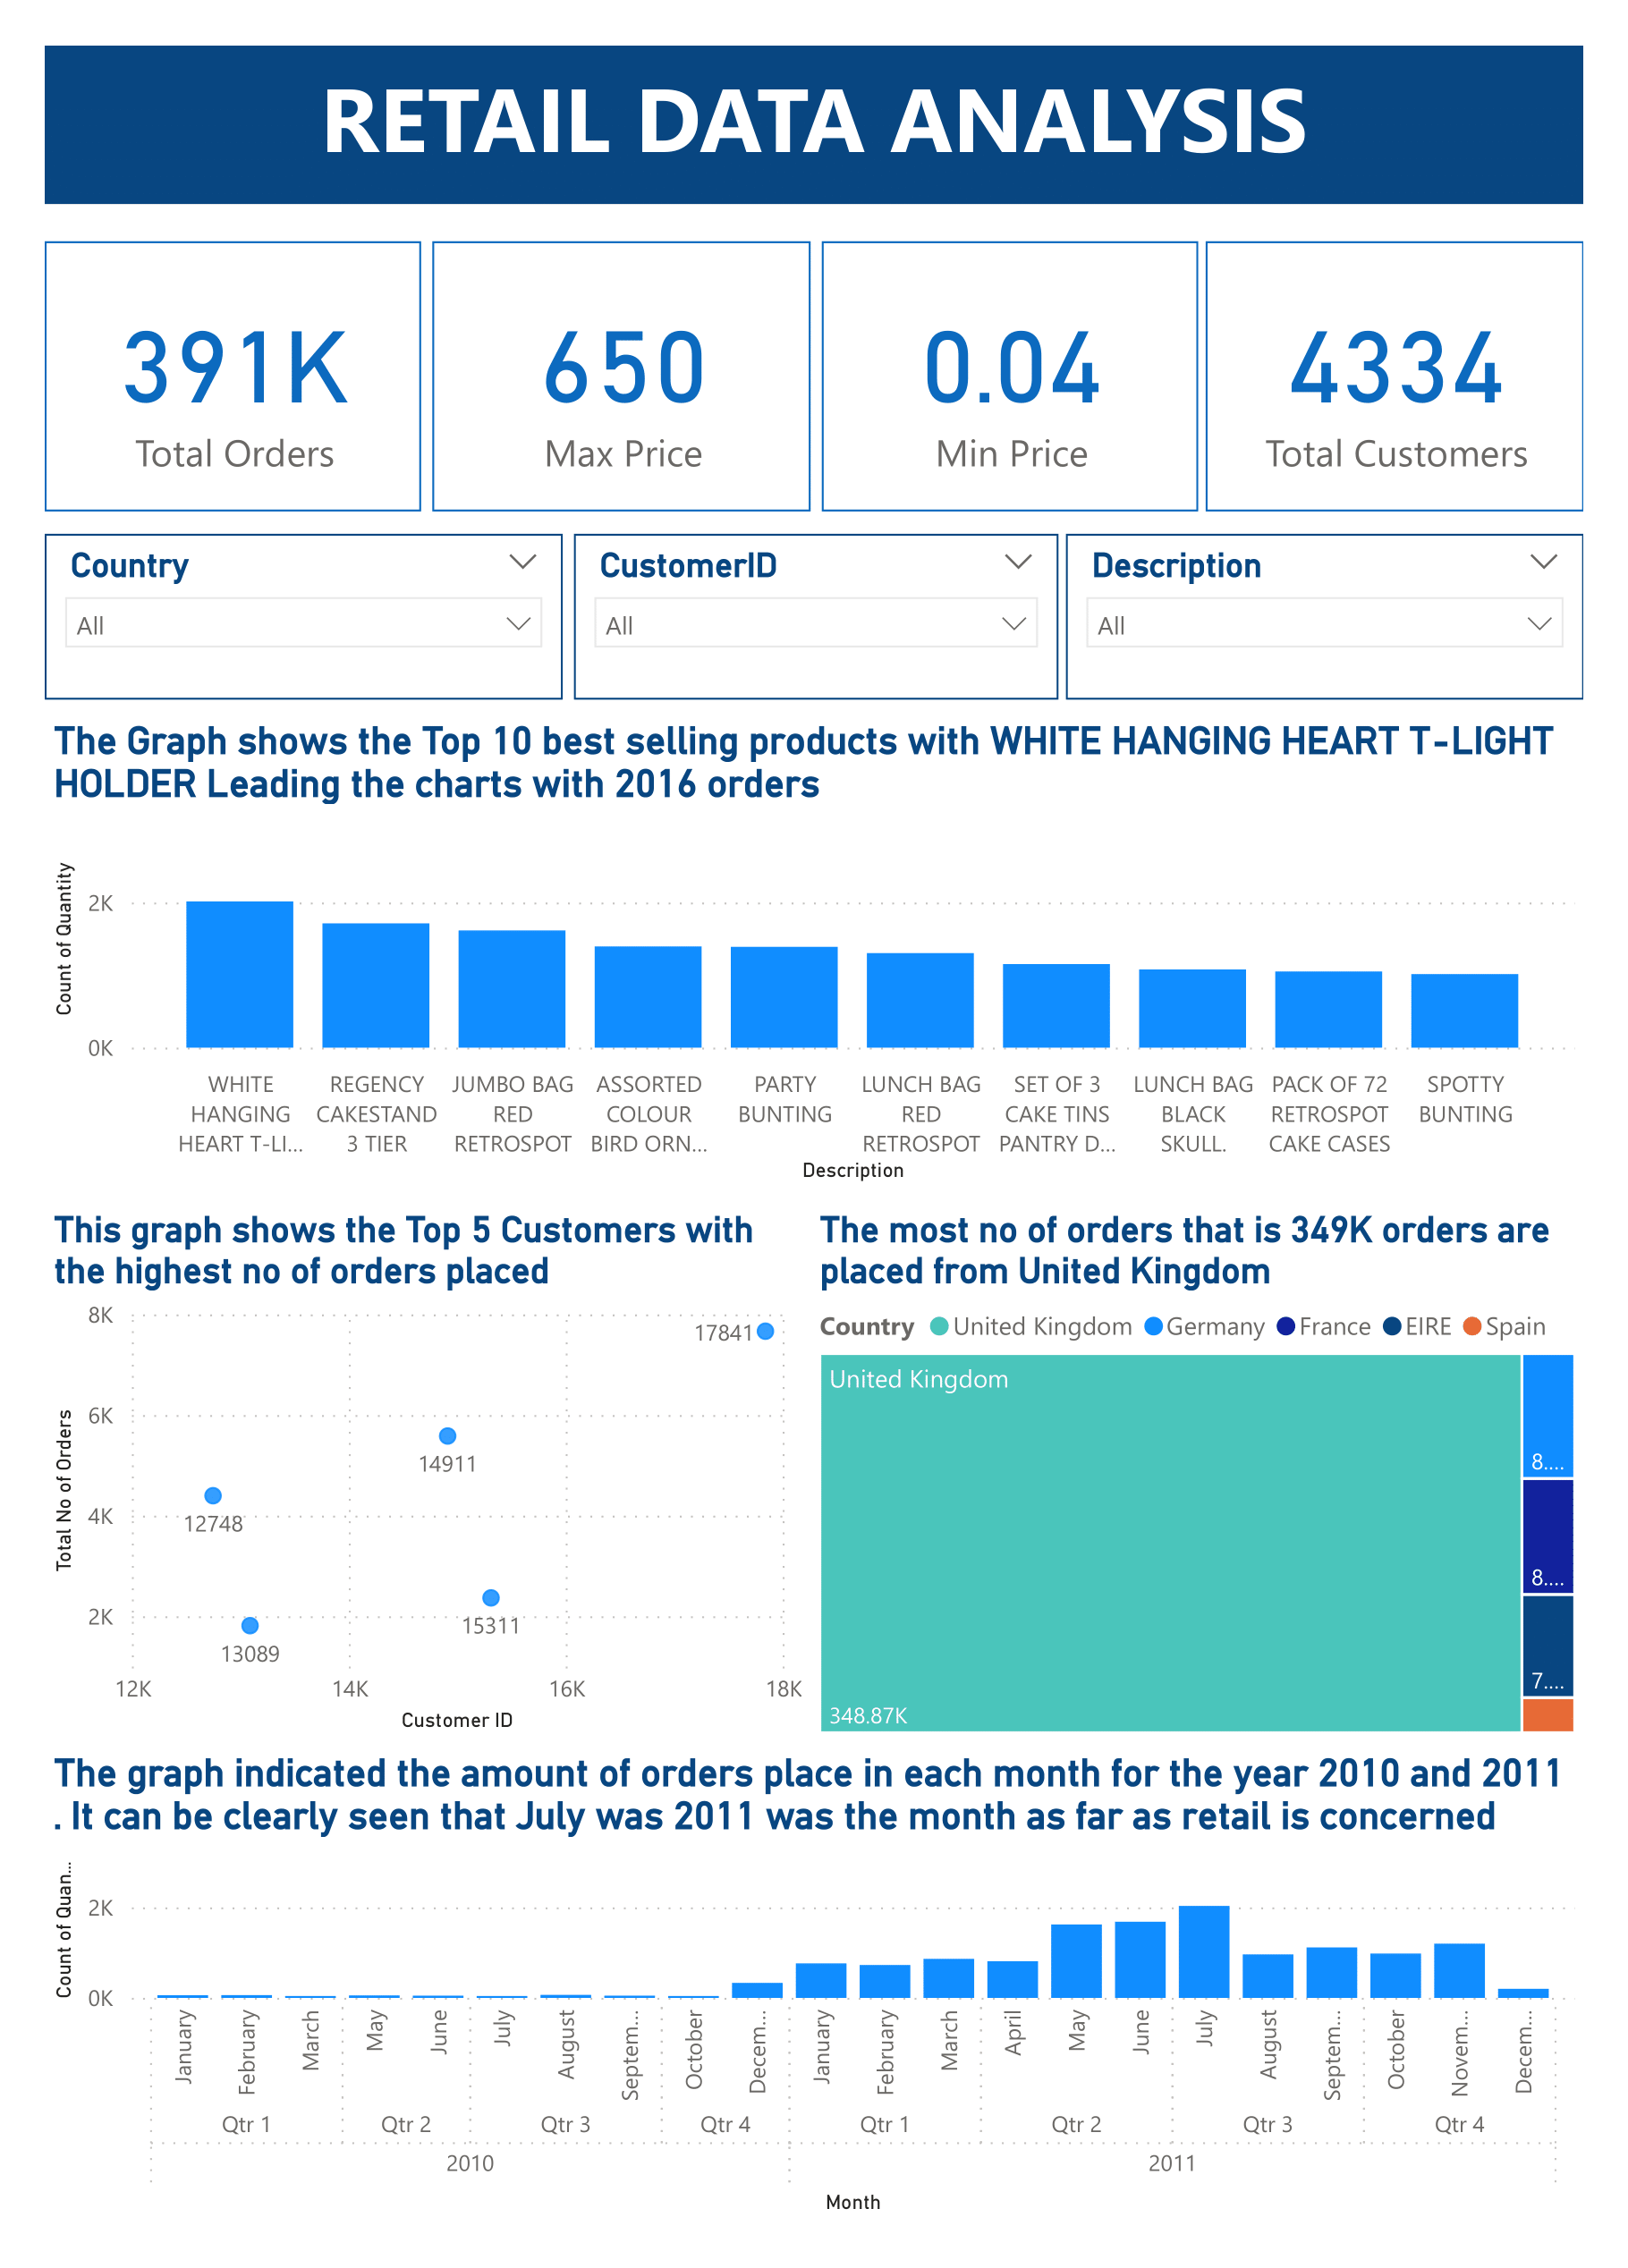

What the dashboard file says about the page in this screenshot:
{"tool":"powerbi","page":{"name":"Page 1","canvas":[826,1169],"ordinal":0},"visuals":[{"type":"card","fields":{"Values":["CountNonNull(Online Retail xlsx - Online Retail.InvoiceNo)"]},"box":[0,105.2,202.4,144.9],"z":0},{"type":"card","fields":{"Values":["Max(Online Retail xlsx - Online Retail.UnitPrice)"]},"box":[208.4,105.2,202.4,144.9],"z":1000},{"type":"card","fields":{"Values":["Count(Online Retail xlsx - Online Retail.CustomerID)"]},"box":[623.2,105.2,202.4,144.9],"z":2000},{"type":"card","fields":{"Values":["Min(Online Retail xlsx - Online Retail.UnitPrice)"]},"box":[416.8,105.2,202.4,144.9],"z":3000},{"type":"textbox","box":[0,329.5,202,169],"z":4000},{"type":"textbox","box":[0,0,825.6,85.3],"z":5000},{"type":"scatterChart","title":"This graph shows the Top 5 Customers with the highest no of orders placed ","fields":{"Y":["CountNonNull(Online Retail xlsx - Online Retail.InvoiceNo)"],"X":["Online Retail xlsx - Online Retail.CustomerID"]},"box":[0.3,624.4,410.8,285.8],"z":6000},{"type":"columnChart","title":"The Graph shows the Top 10 best selling products with WHITE HANGING HEART T-LIGHT HOLDER Leading the charts with 2016 orders","fields":{"Category":["Online Retail xlsx - Online Retail.Description"],"Y":["CountNonNull(Online Retail xlsx - Online Retail.Quantity)"]},"box":[0,361.2,825.6,254],"z":7000},{"type":"treemap","title":"The most no of orders that is 349K orders are placed from United Kingdom ","fields":{"Group":["Online Retail xlsx - Online Retail.Country"],"Values":["CountNonNull(Online Retail xlsx - Online Retail.InvoiceNo)"]},"box":[411.3,624.2,415,286],"z":8000},{"type":"slicer","fields":{"Values":["Online Retail xlsx - Online Retail.Country"]},"box":[0,262,277.9,89.3],"z":9000},{"type":"slicer","fields":{"Values":["Online Retail xlsx - Online Retail.CustomerID"]},"box":[283.8,262,260,89.3],"z":9001},{"type":"slicer","fields":{"Values":["Online Retail xlsx - Online Retail.Description"]},"box":[547.8,262,277.9,89.3],"z":9002},{"type":"columnChart","title":"The graph indicated the amount of orders place in each month for the year 2010 and 2011 . It can be clearly seen that July was 2011 was the month as far as retail is concerned","fields":{"Y":["CountNonNull(Online Retail xlsx - Online Retail.Quantity)"],"Category":["Online Retail xlsx - Online Retail.InvoiceDate.Variation.Date Hierarchy.Year","Online Retail xlsx - Online Retail.InvoiceDate.Variation.Date Hierarchy.Quarter","Online Retail xlsx - Online Retail.InvoiceDate.Variation.Date Hierarchy.Month"]},"box":[0,915,825.6,254],"z":9003}]}

Visuals, with their boxes in screenshot pixels (x1, y1, x2, y2):
card - CountNonNull(Online Retail xlsx - Online Retail.InvoiceNo): l=45, t=241, r=421, b=511
card - Max(Online Retail xlsx - Online Retail.UnitPrice): l=433, t=241, r=810, b=511
card - Count(Online Retail xlsx - Online Retail.CustomerID): l=1206, t=241, r=1582, b=511
card - Min(Online Retail xlsx - Online Retail.UnitPrice): l=821, t=241, r=1198, b=511
textbox: l=45, t=659, r=421, b=974
textbox: l=45, t=45, r=1582, b=204
"This graph shows the Top 5 Customers with the highest no of orders placed " scatterChart: l=46, t=1208, r=810, b=1741
"The Graph shows the Top 10 best selling products with WHITE HANGING HEART T-LIGHT HOLDER Leading the charts with 2016 orders" columnChart: l=45, t=718, r=1582, b=1191
"The most no of orders that is 349K orders are placed from United Kingdom " treemap: l=810, t=1208, r=1583, b=1741
slicer - Online Retail xlsx - Online Retail.Country: l=45, t=533, r=563, b=699
slicer - Online Retail xlsx - Online Retail.CustomerID: l=573, t=533, r=1057, b=699
slicer - Online Retail xlsx - Online Retail.Description: l=1065, t=533, r=1582, b=699
"The graph indicated the amount of orders place in each month for the year 2010 and 2011 . It can be clearly seen that July was 2011 was the month as far as retail is concerned" columnChart: l=45, t=1750, r=1582, b=2223
